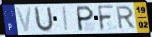F: (96, 5, 116, 32)
I: (62, 6, 70, 33)
P: (76, 5, 95, 33)
R: (116, 5, 138, 31)
U: (34, 5, 54, 33)
V: (14, 6, 34, 33)
